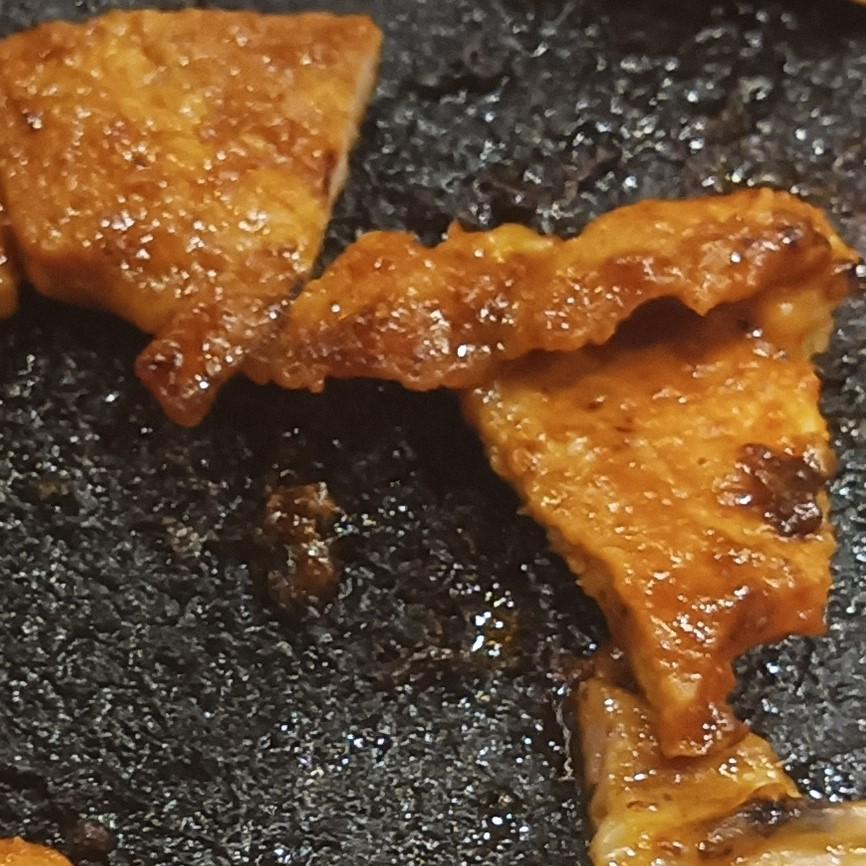Well-Cooked: (138, 188, 865, 865), (0, 12, 382, 421)
